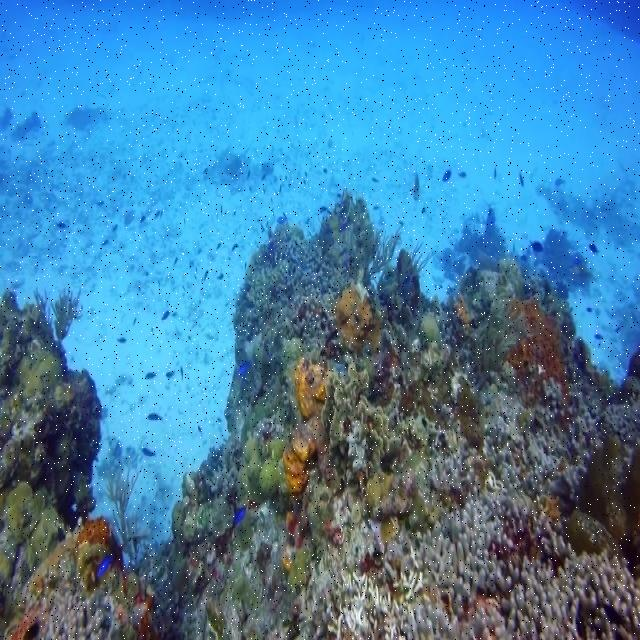reefs: (0, 192, 639, 639)
